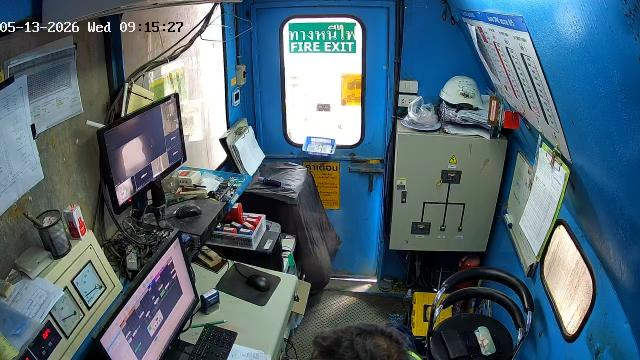Head: (310, 323, 421, 359)
Phone: (440, 329, 468, 359)
